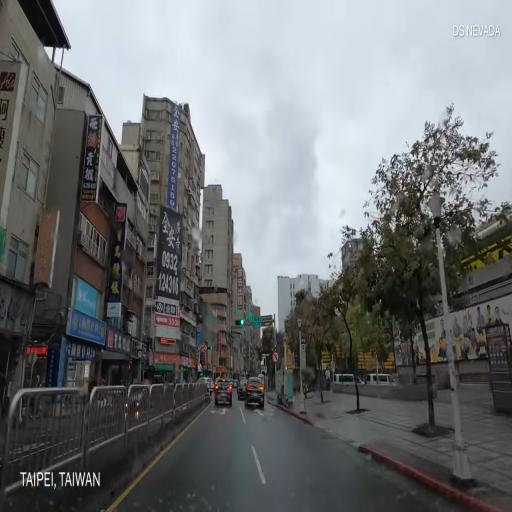Car: (365, 369, 399, 394), (215, 370, 232, 414), (333, 369, 363, 393), (245, 378, 264, 414), (193, 372, 215, 396), (237, 374, 249, 394)
